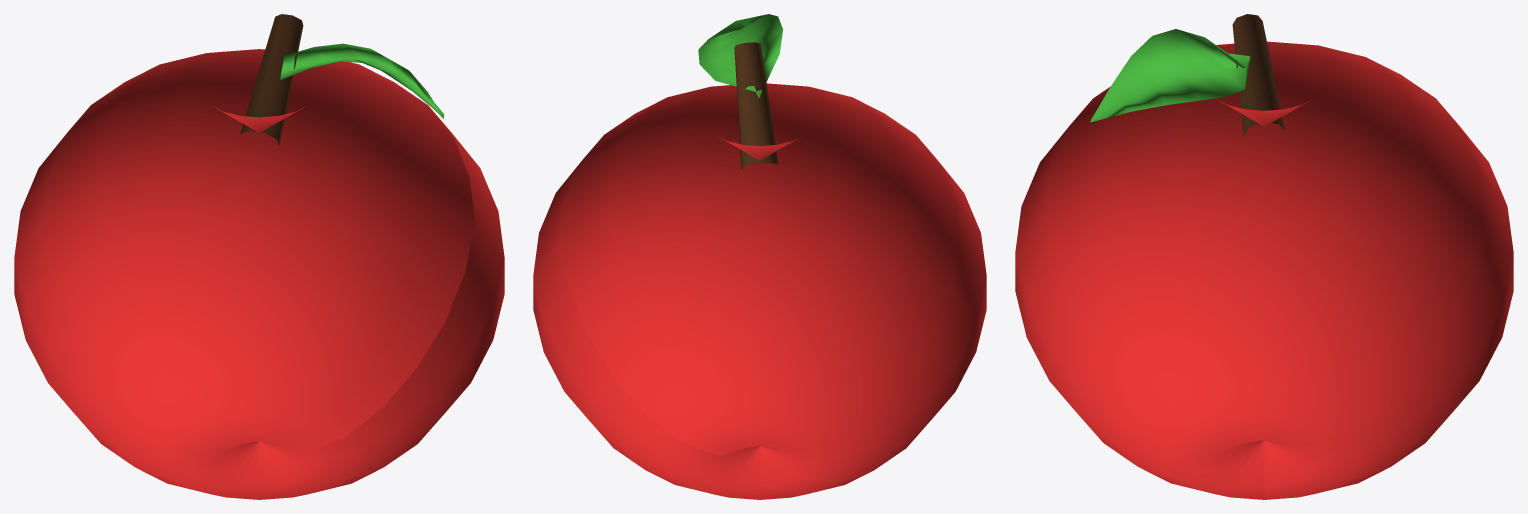
Rendered from apple.glb.
The picture shows the model from 3 angles, left to right: view 1: azimuth 30°, elevation 25°; view 2: azimuth 150°, elevation 25°; view 3: azimuth 270°, elevation 25°; orthographic projection. The views are drawn at different scales.
Parts seen in each view (by area): view 1: AppleProp; view 2: AppleProp; view 3: AppleProp.
Part boxes in pixels (x1=…): AppleProp: x1=14, y1=14, x2=504, y2=499; AppleProp: x1=533, y1=14, x2=986, y2=499; AppleProp: x1=1015, y1=14, x2=1513, y2=499.
Bounding box in the file's own units: 0.6 × 0.5933 × 0.5909.
